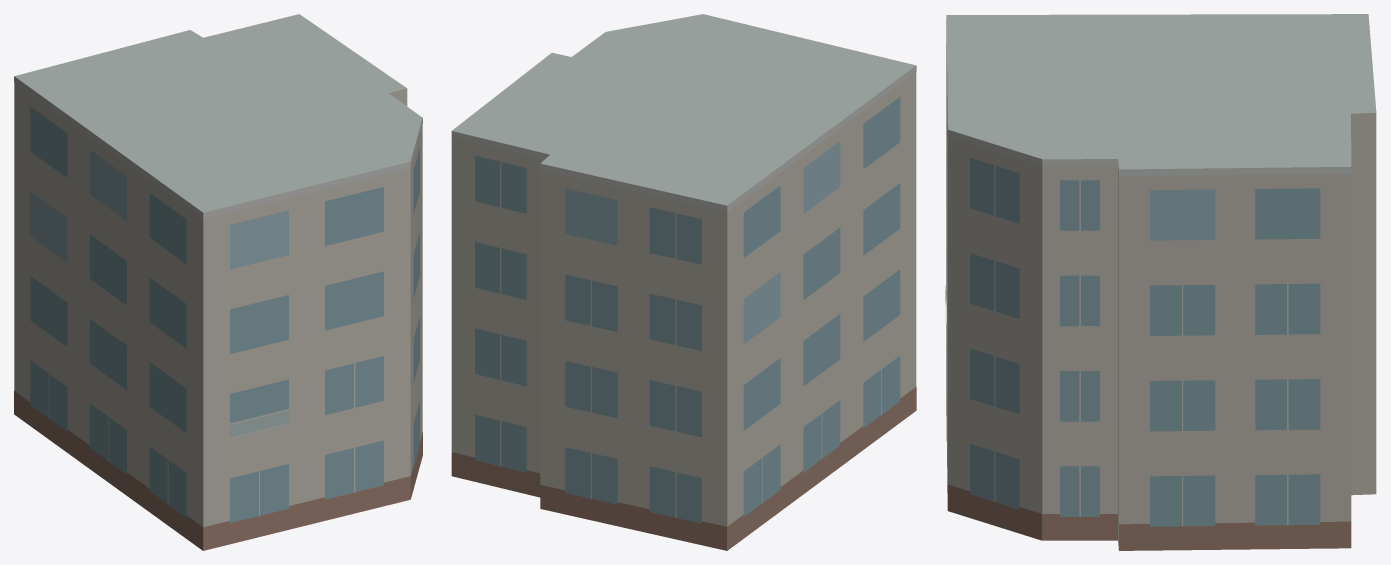
File: survey-upis-32968718.glb
3 renders of one model, left to right at view 1: azimuth 30°, elevation 25°; view 2: azimuth 150°, elevation 25°; view 3: azimuth 270°, elevation 25°, orthographic. The views are drawn at different scales.
Visible parts, largest first — view 1: survey-upis-32968718.tmp; view 2: survey-upis-32968718.tmp; view 3: survey-upis-32968718.tmp.
Part boxes in pixels (x1,y1,x2,y2): survey-upis-32968718.tmp: (14, 14, 422, 550); survey-upis-32968718.tmp: (451, 14, 916, 550); survey-upis-32968718.tmp: (945, 14, 1376, 550).
Bounding box in the file's own units: 11.54 × 13.2 × 13.53.
